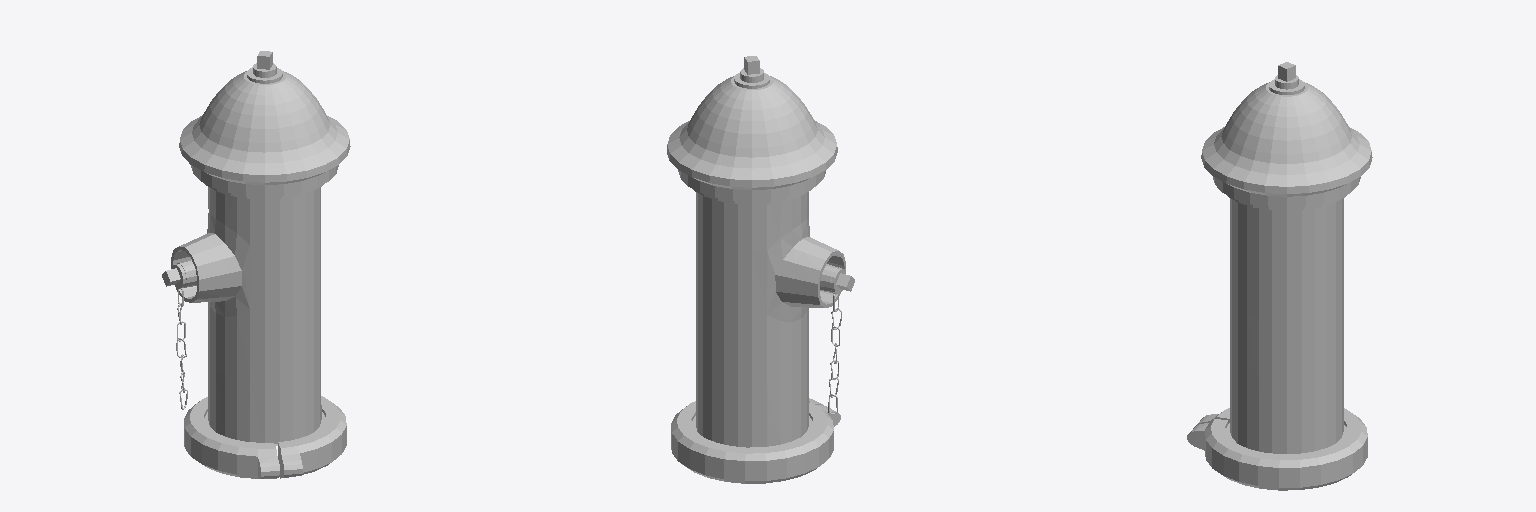
The model's file is Fire Hydrant_triangulated.obj.
3 views of the same model, side by side, from view 1: azimuth 30°, elevation 25°; view 2: azimuth 150°, elevation 25°; view 3: azimuth 270°, elevation 25° (orthographic).
Visible parts, largest first — view 1: Fire_Hydrant:polySurface10; view 2: Fire_Hydrant:polySurface10; view 3: Fire_Hydrant:polySurface10.
Part boxes in pixels (left/top/right/bottom): Fire_Hydrant:polySurface10: left=162, top=51, right=350, bottom=478; Fire_Hydrant:polySurface10: left=667, top=56, right=854, bottom=483; Fire_Hydrant:polySurface10: left=1187, top=62, right=1372, bottom=490.
Size of the model in its own units: 56.39 by 123 by 52.28.